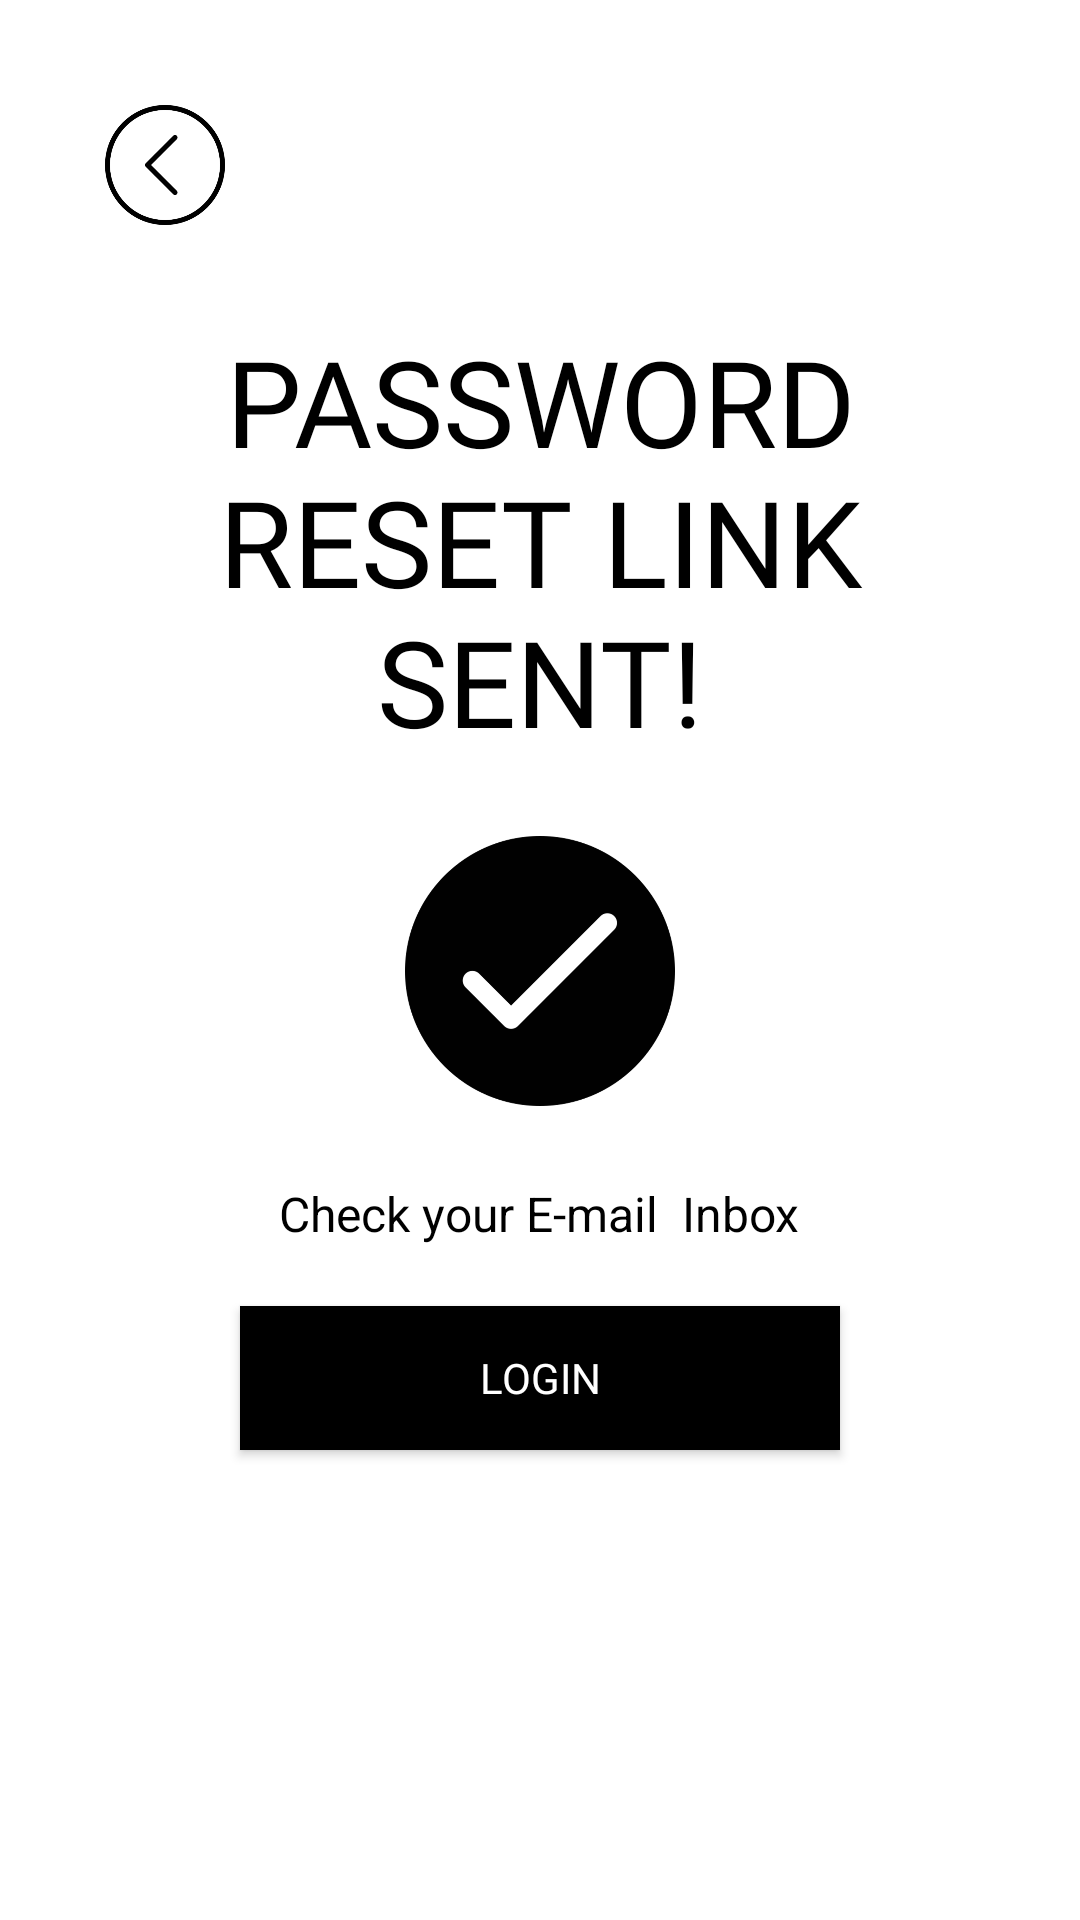

Named icons in this screenshot (1080px×1920px) and their centers, (x,y):
backicon: (165,165)
tick: (540,971)
